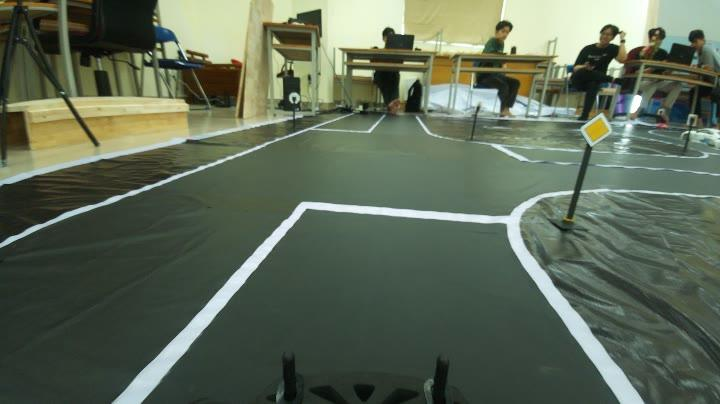priority: (576, 106, 620, 151)
